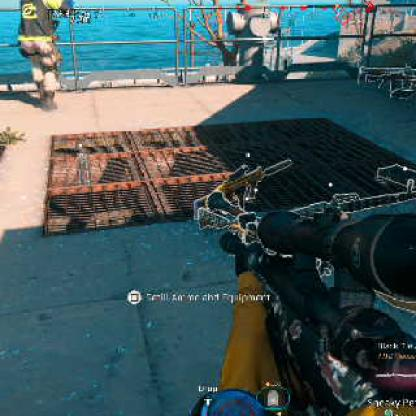enemy: (18, 1, 72, 106)
